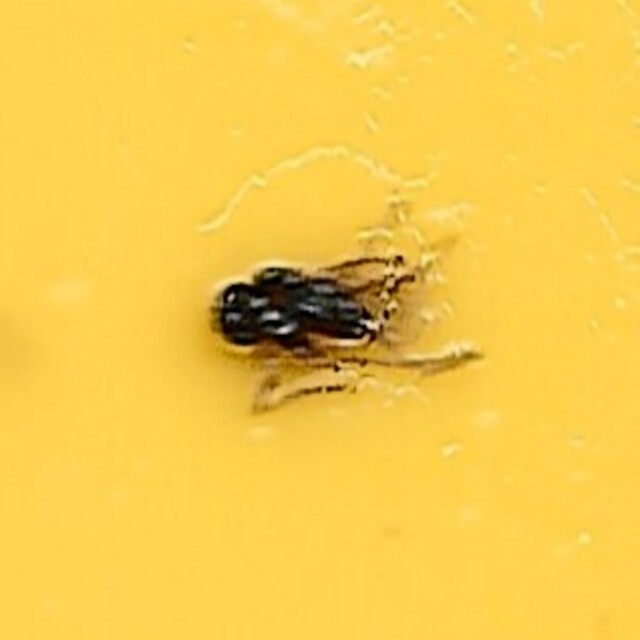Brachycera: (201, 237, 439, 403)
